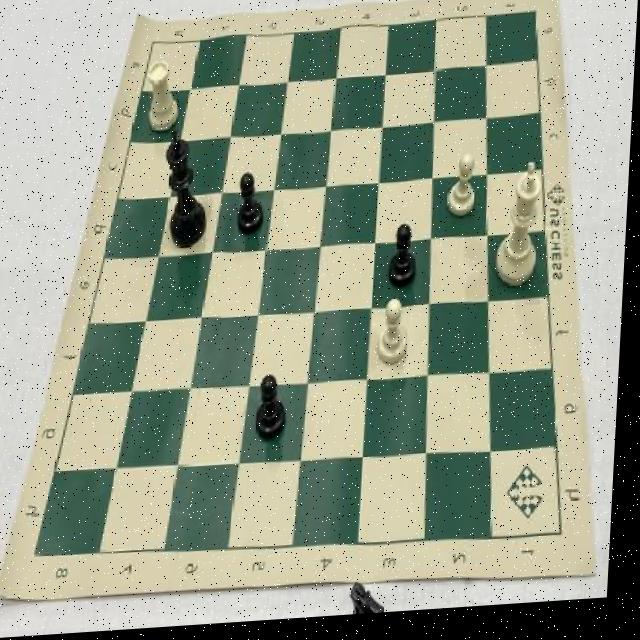black-bishop: (159, 127, 217, 262)
black-knight: (257, 371, 297, 452), (385, 222, 422, 298), (232, 170, 268, 245)
white-bishop: (490, 164, 550, 302)
white-knight: (375, 301, 416, 374), (447, 156, 485, 227)
white-queen: (140, 57, 183, 141)
